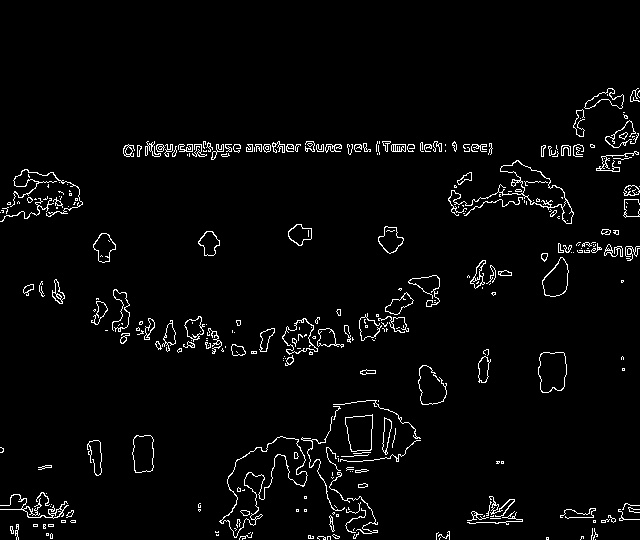rune_box: (55, 188, 470, 286)
